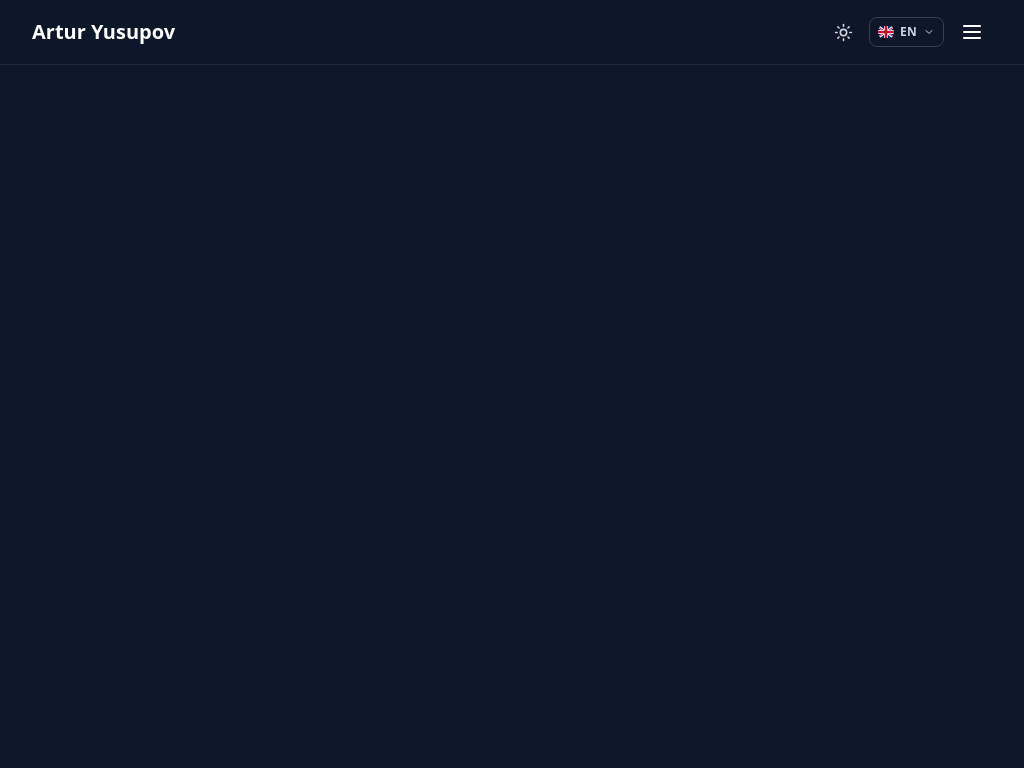
Responsive Header & Mobile/Tablet Navigation Specification (TDD) › should have accessible hamburger button that toggles mobile drawer
This screenshot has width=1024, height=768.
Note: Open mobile menu
Click the button named "Open navigation menu" at [972, 32], box [952,12,992,52]
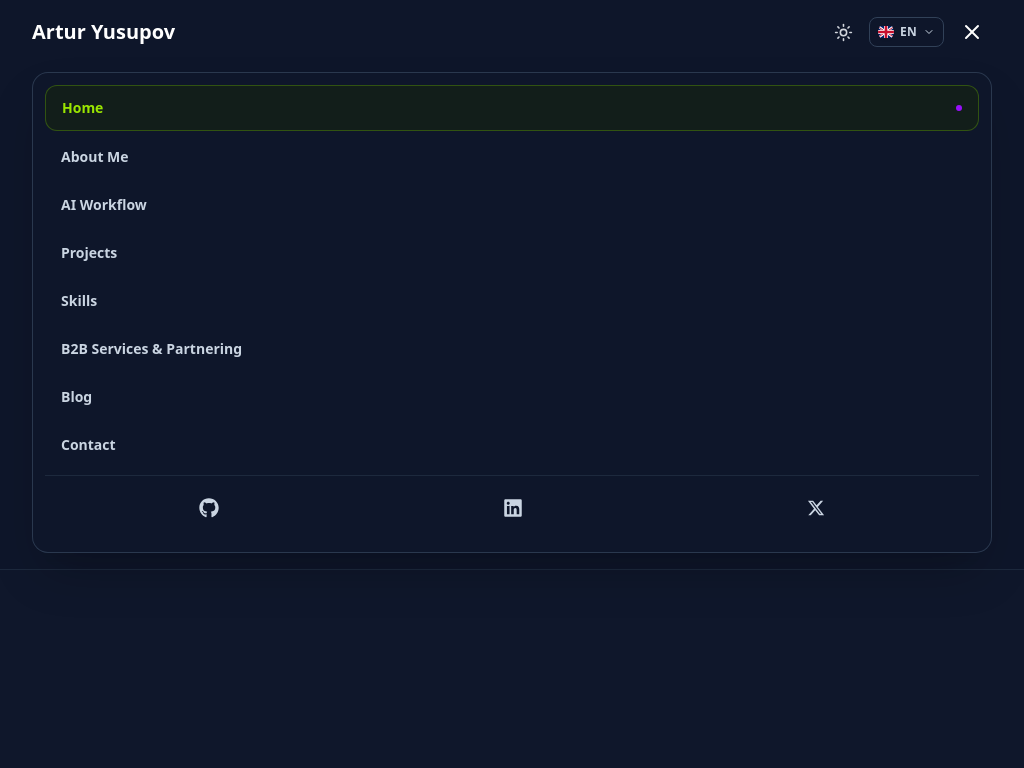
Result: the button named "Open navigation menu" is expanded
Result: the navigation bar named "Mobile Navigation" is shown
Note: Close mobile menu
Click the button named "Open navigation menu" at [972, 32], box [952,12,992,52]
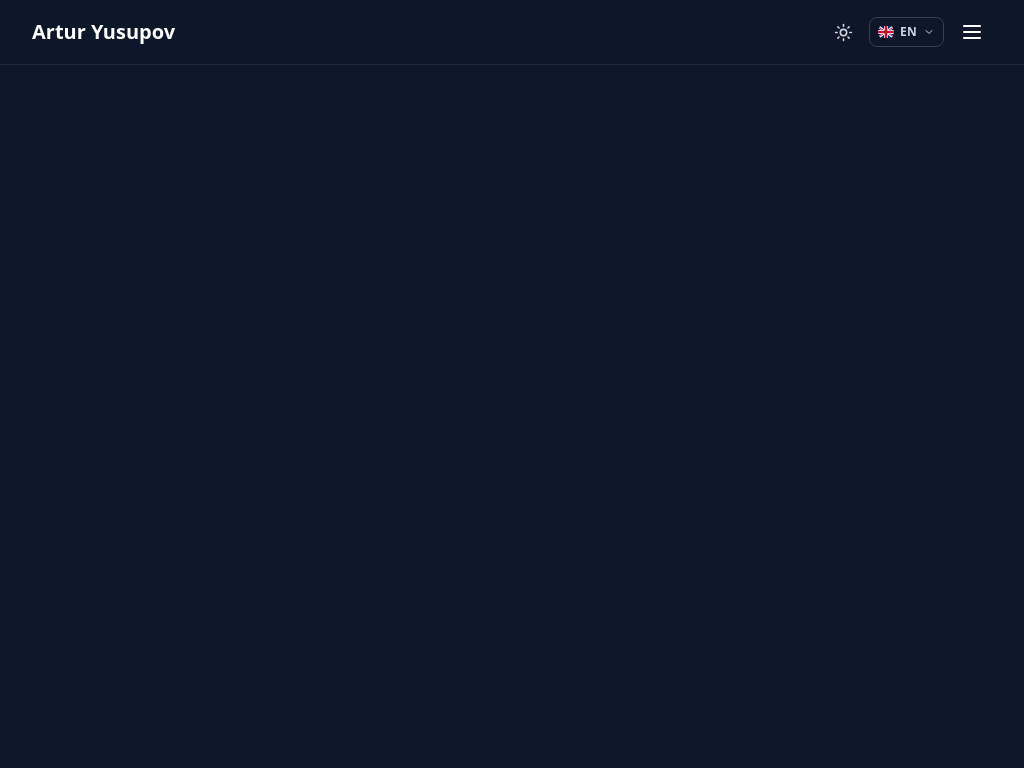
Result: the button named "Open navigation menu" is collapsed at [952,12,992,52]
Result: the navigation bar with id "mobile-navigation" is gone
